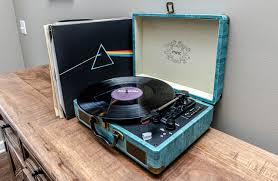suitcase: (70, 1, 234, 177)
